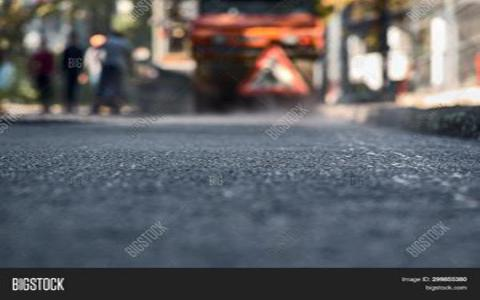Proper road: (20, 119, 449, 250)
